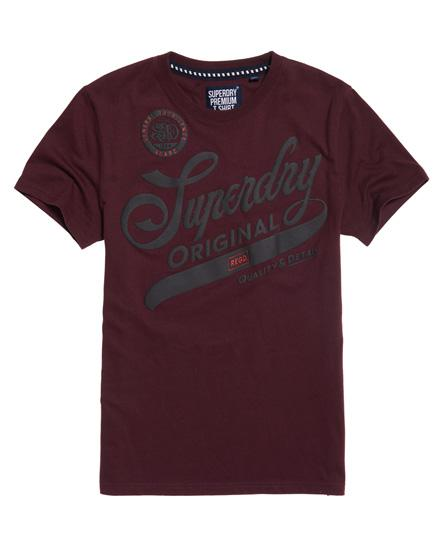teeshirt: (13, 48, 438, 503)
